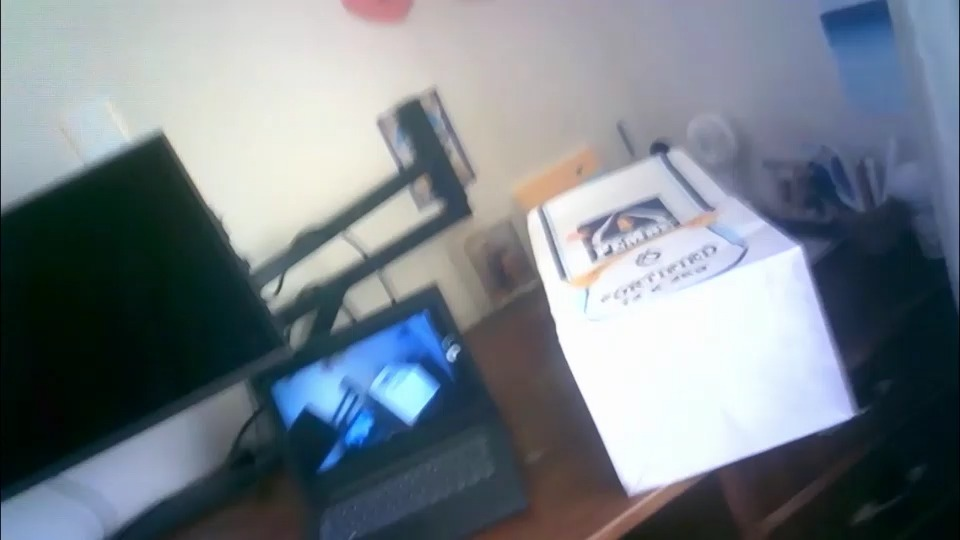wheat_flour_blue_label: (525, 147, 865, 492)
